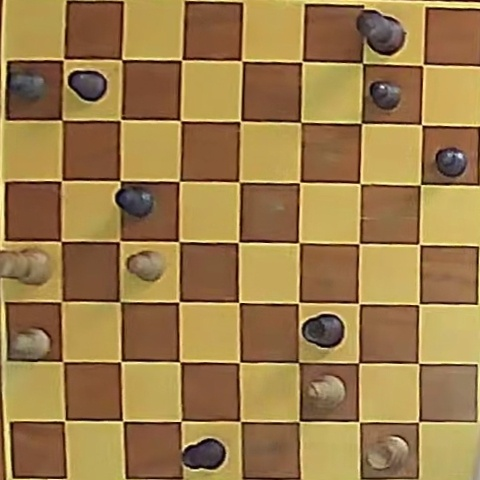black-king: (357, 10, 406, 55)
black-pawn: (68, 70, 108, 101), (9, 70, 47, 101), (116, 186, 154, 217), (435, 147, 467, 177), (370, 81, 402, 110)
black-rook: (182, 437, 226, 471), (302, 314, 344, 349)
white-bishop: (307, 376, 346, 410)
white-king: (1, 248, 51, 285)
white-pawn: (9, 328, 51, 361), (127, 250, 165, 281)
white-rook: (365, 435, 408, 470)
